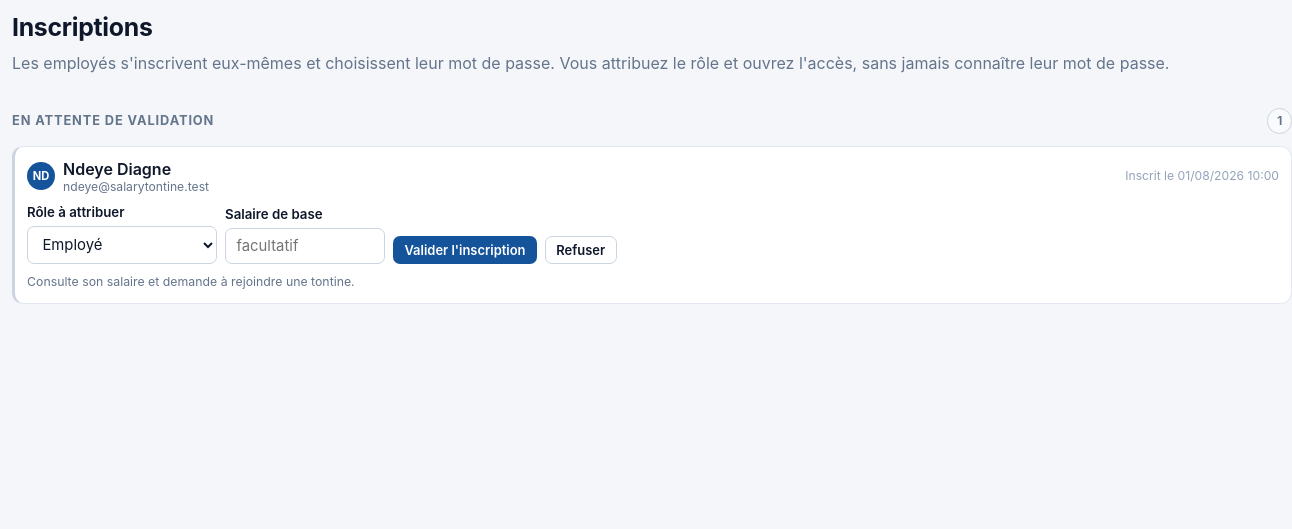
Test: RegistrationsPage › refuse une inscription et la fait basculer hors de la file
Expected: the text "Ndeye Diagne" is shown, left=63, top=159, right=171, bottom=179
What coordinates should you click on to do the following:
click the button "Refuser"
I would click on:
 (581, 250)
Its box is left=545, top=236, right=616, bottom=264.
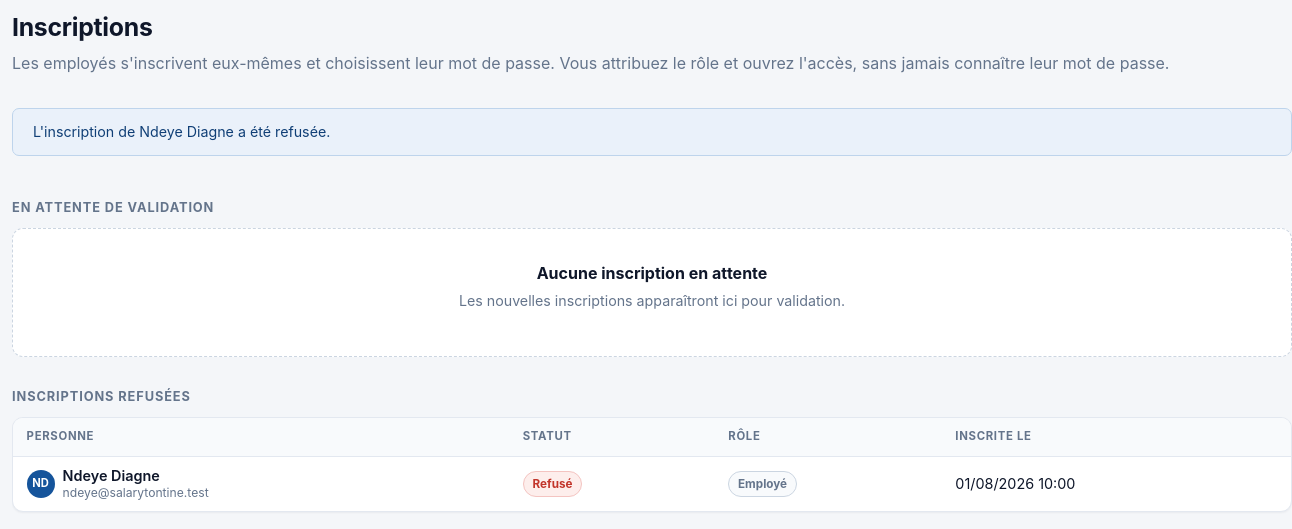
Result: the text "L'inscription de Ndeye Diagne a été refusée." is shown at left=12, top=108, right=1291, bottom=156
Result: the heading "Inscriptions refusées" is shown at left=12, top=389, right=191, bottom=405
